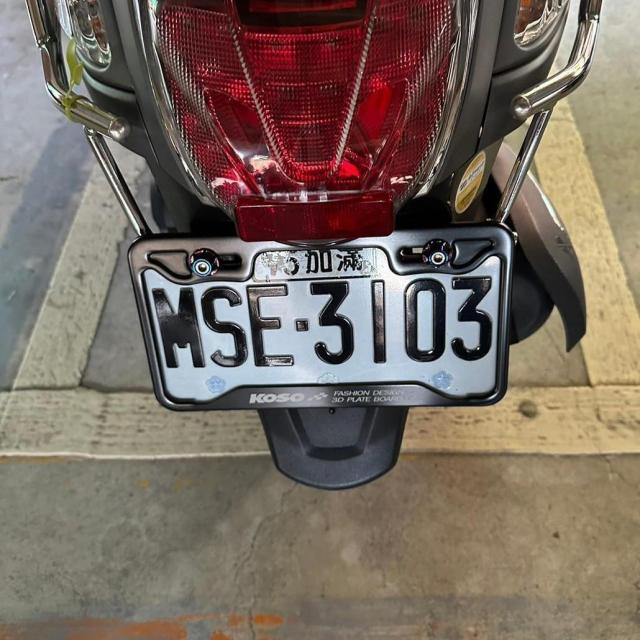W: (121, 225, 518, 408)
